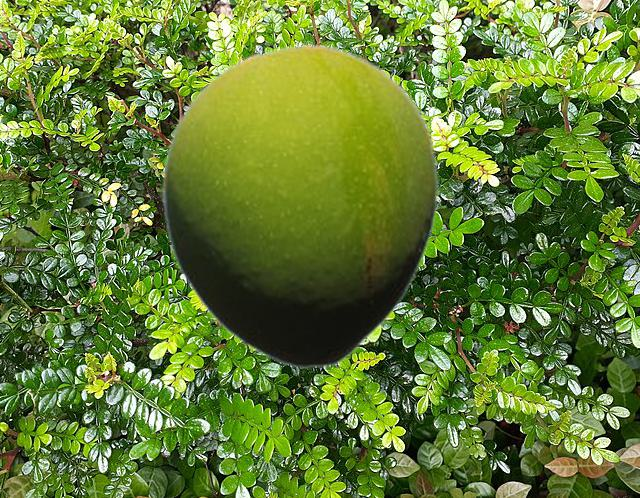green_mango: (161, 43, 439, 369)
